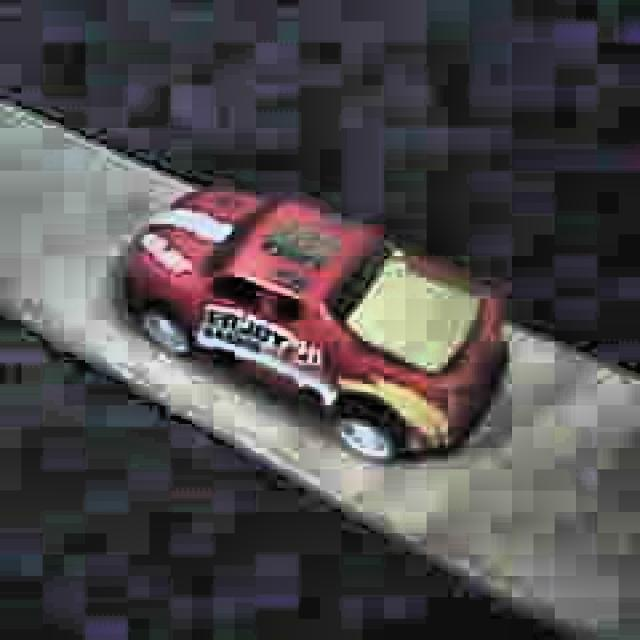car: (120, 185, 516, 471)
